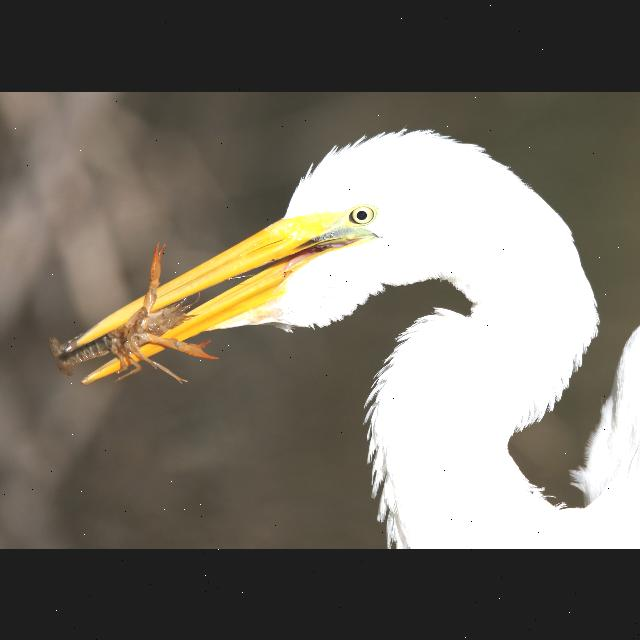egret: (32, 116, 640, 548)
